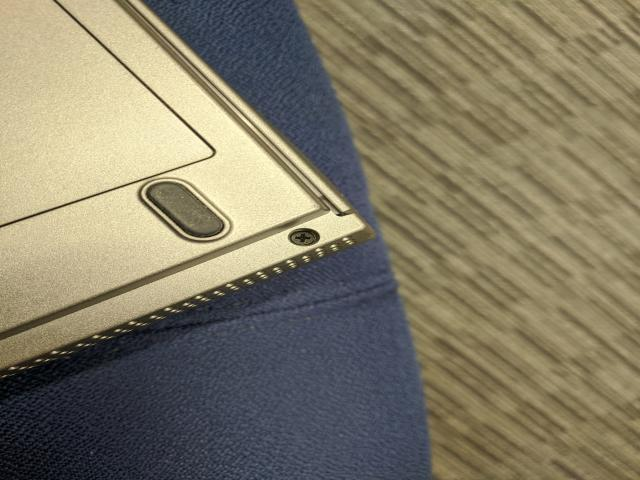CRS: (287, 228, 320, 246)
